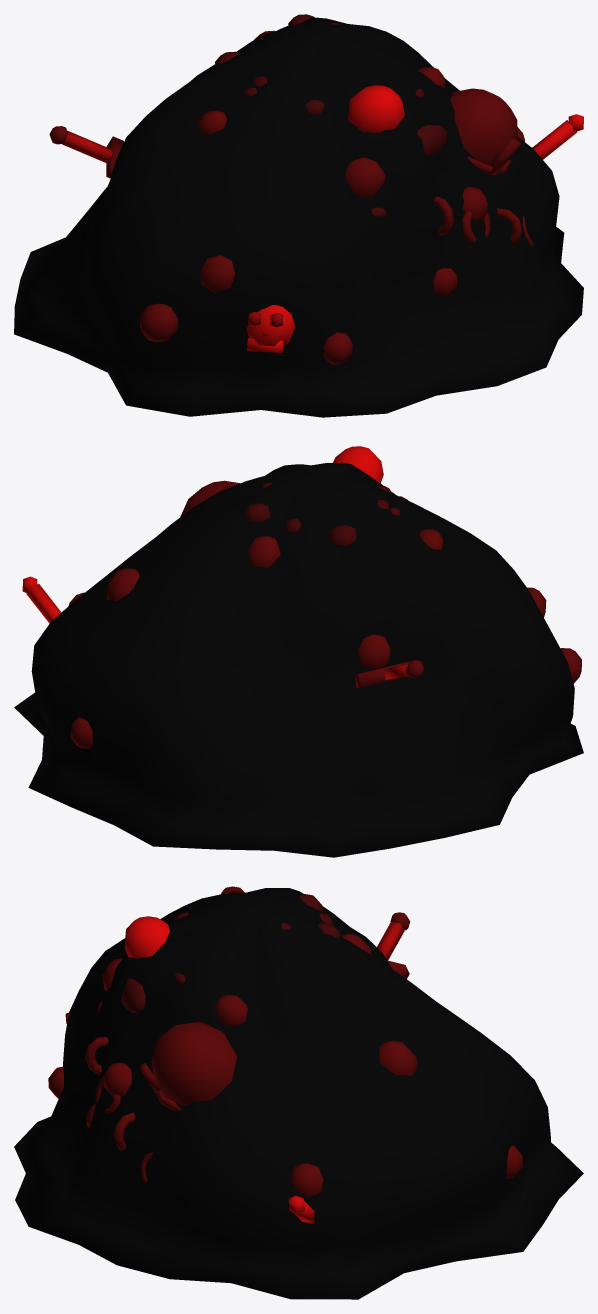
Rendered from ooze.glb.
3 renders of one model, top to bottom at view 1: azimuth 30°, elevation 25°; view 2: azimuth 150°, elevation 25°; view 3: azimuth 270°, elevation 25°, orthographic. The views are drawn at different scales.
Parts seen in each view (by area): view 1: ooze_body, ooze_junk, ooze_pearls; view 2: ooze_body, ooze_pearls, ooze_junk; view 3: ooze_body, ooze_junk, ooze_pearls.
Boxes of the visible parts, x1,y1,x2,y2 form: ooze_body: (14,17,583,417); ooze_junk: (49,14,583,352); ooze_pearls: (140,30,524,364); ooze_body: (14,462,583,857); ooze_pearls: (68,446,581,748); ooze_junk: (22,480,424,687); ooze_body: (14,888,583,1299); ooze_junk: (65,890,410,1223); ooze_pearls: (48,886,523,1197).
Size of the model in its own units: 1.96 by 0.9616 by 1.83.
